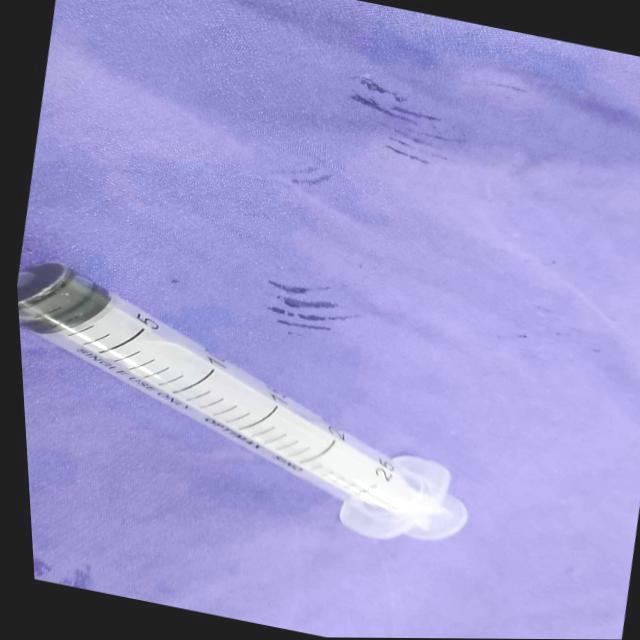Pathological: (15, 0, 640, 638)
Sharps: (18, 258, 467, 541)
